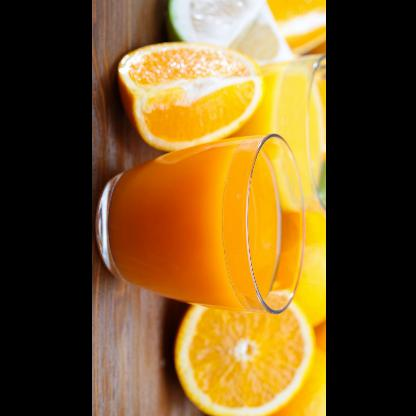orange juice: (106, 137, 280, 313), (224, 62, 322, 212)
